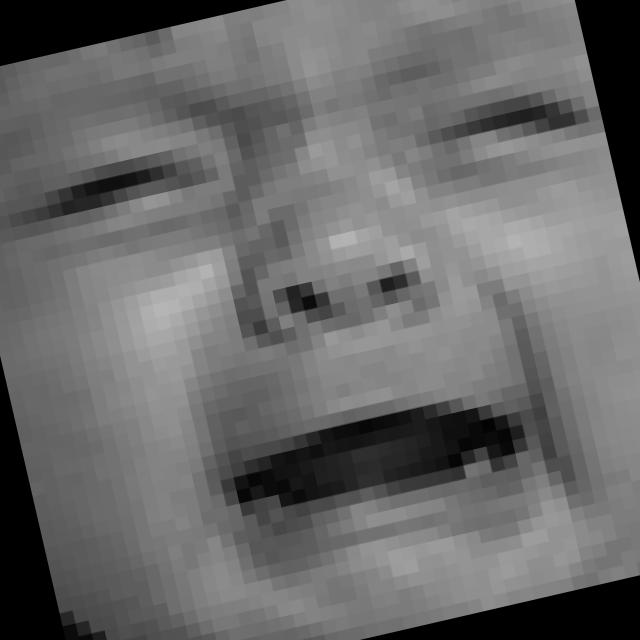sad: (3, 0, 640, 630)
